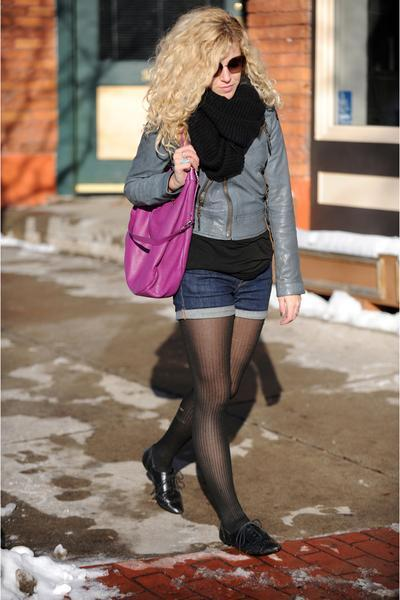bag: (123, 185, 207, 286)
jacket: (108, 95, 299, 296)
shoe: (142, 447, 277, 563)
shorts: (158, 229, 273, 327)
sunglass: (228, 50, 250, 83)
